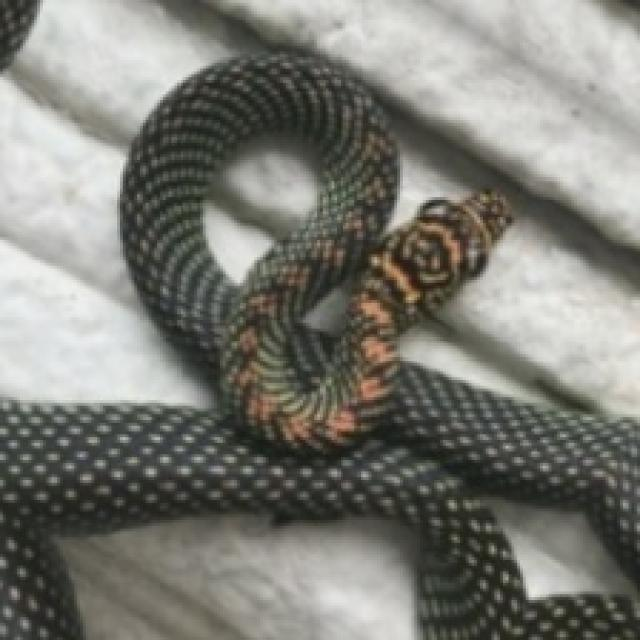paradise tree snake: (0, 51, 637, 637), (120, 51, 509, 449), (200, 131, 320, 286)
